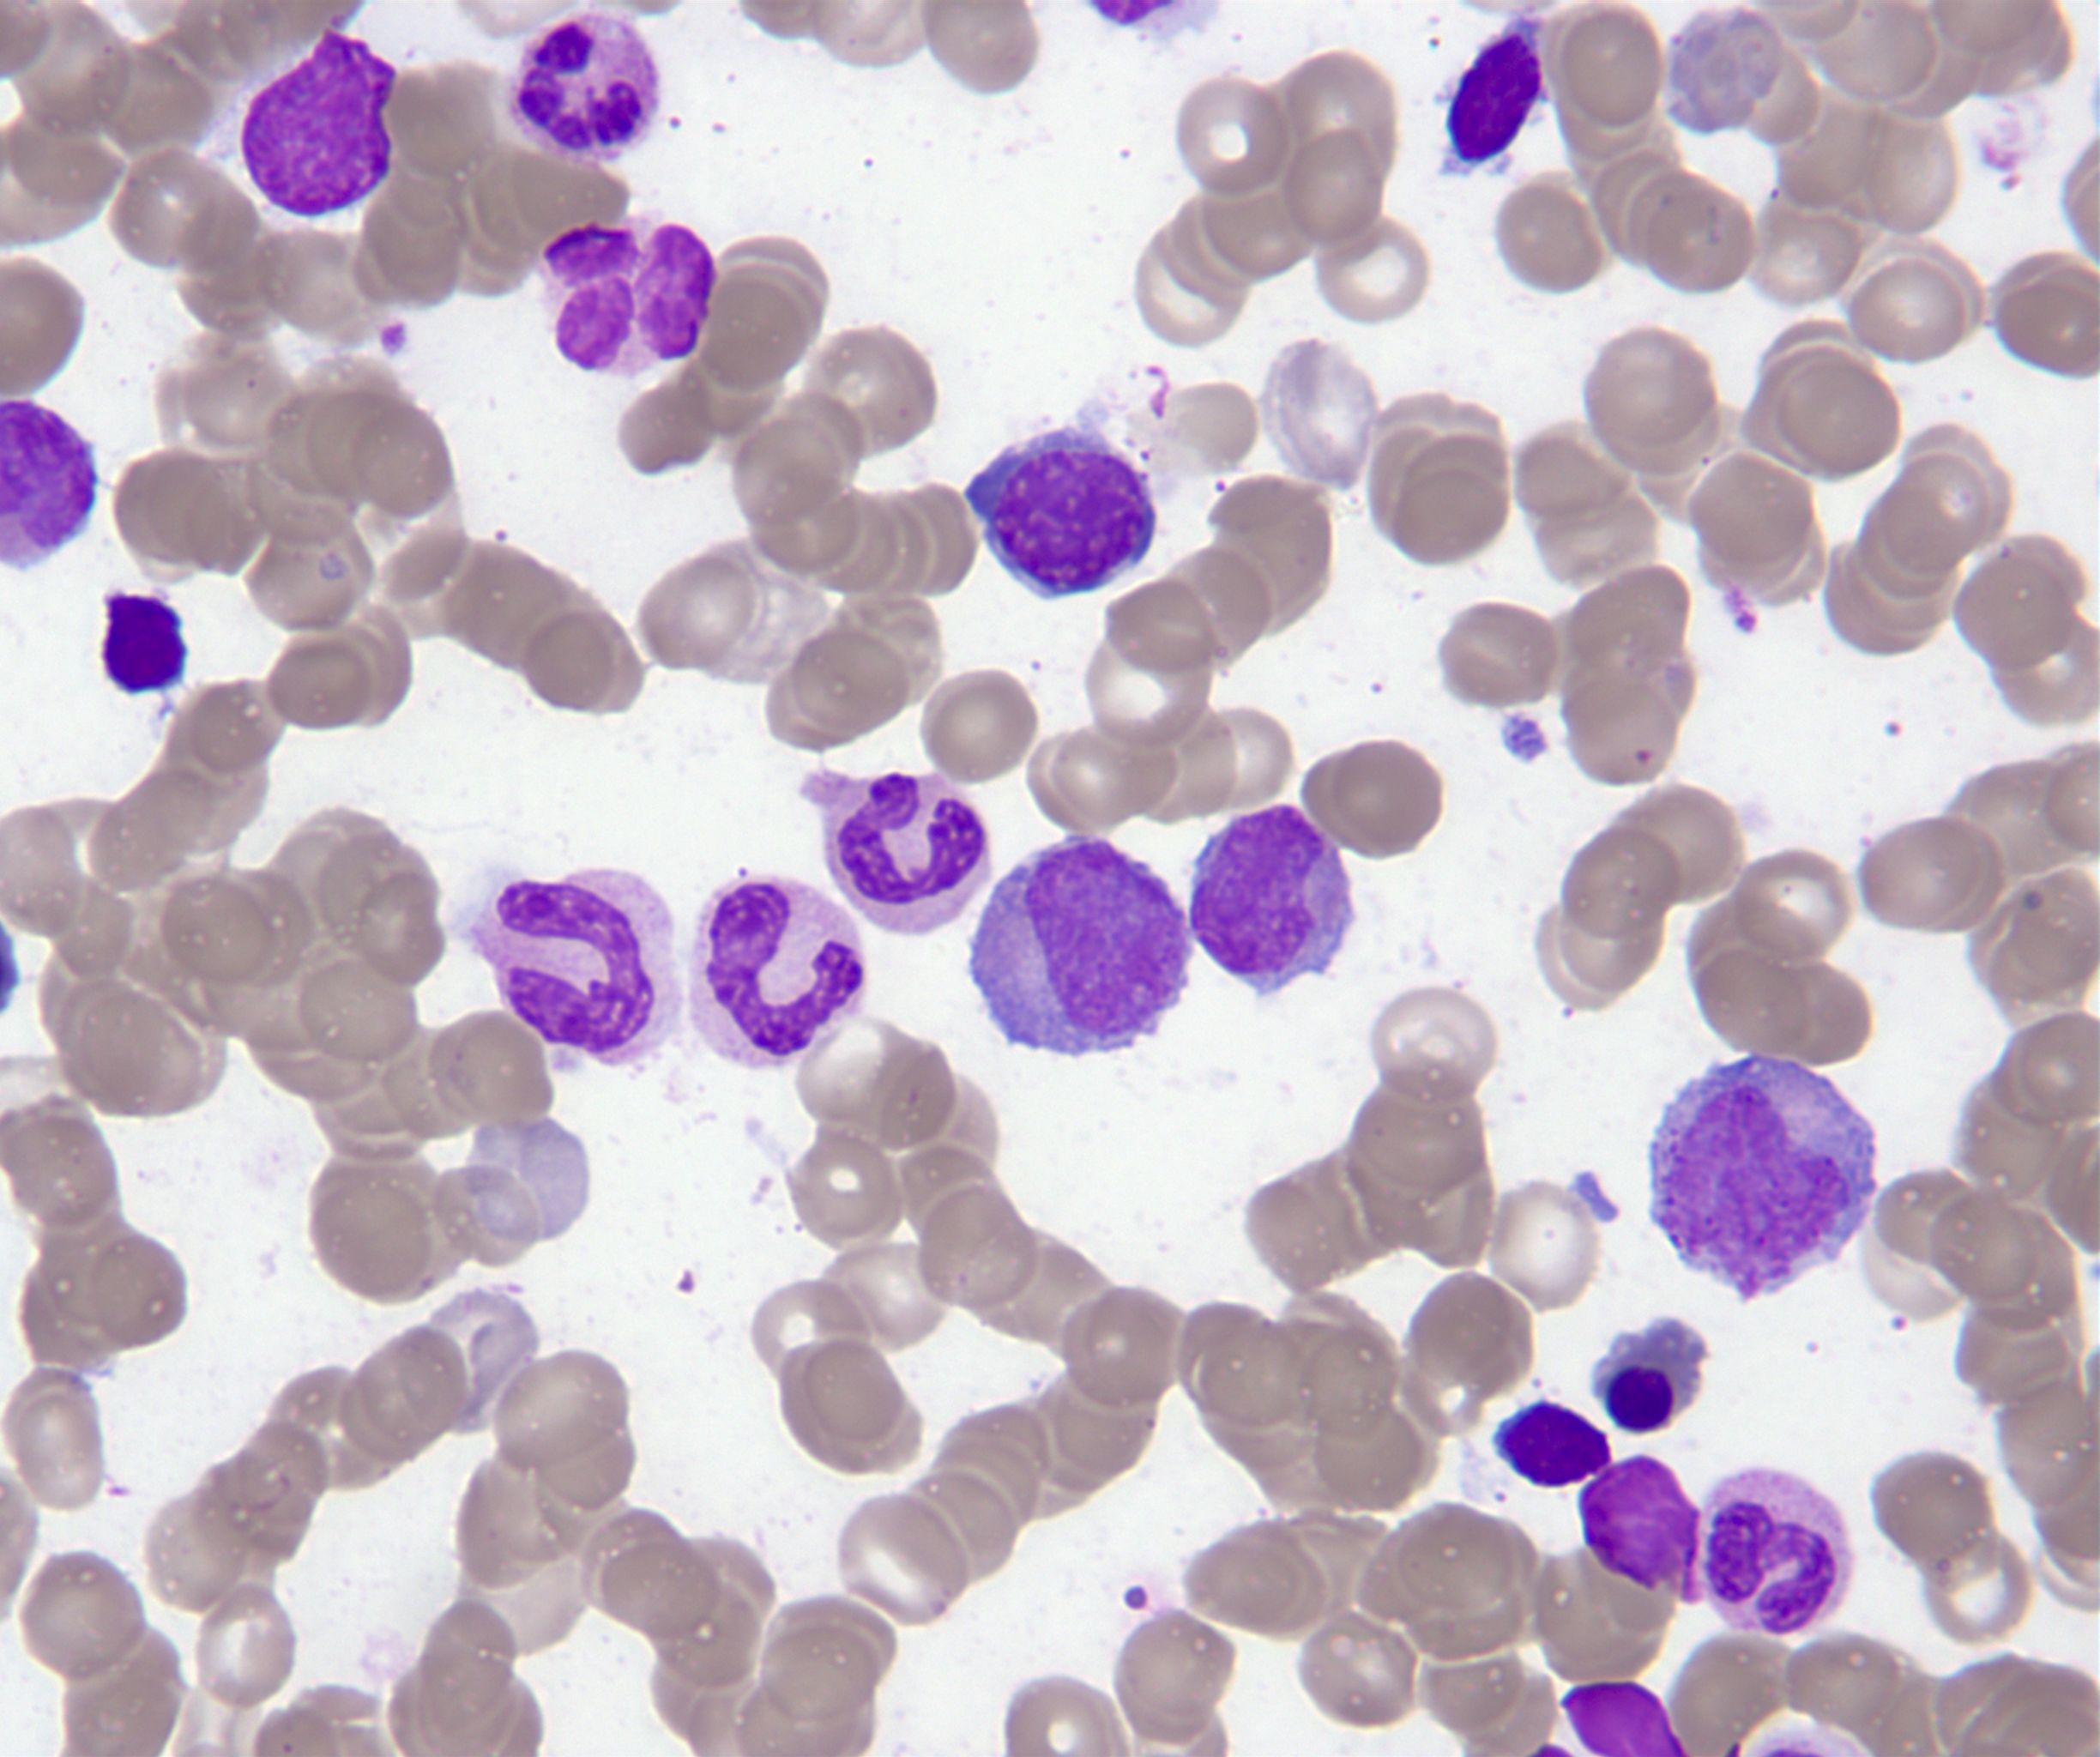23: (952, 419, 1163, 616)
24: (1582, 1316, 1720, 1443)
3: (1645, 1045, 1882, 1312)
32: (1435, 21, 1549, 178), (87, 579, 199, 701), (1486, 1394, 1619, 1495)
4: (956, 827, 1195, 1063), (1186, 794, 1364, 1003)
5: (457, 860, 684, 1082), (684, 871, 874, 1082), (794, 766, 1001, 942), (1697, 1460, 1861, 1647)
6: (501, 0, 666, 171)
x: (523, 208, 727, 384), (232, 21, 401, 225), (1573, 1446, 1709, 1607)
